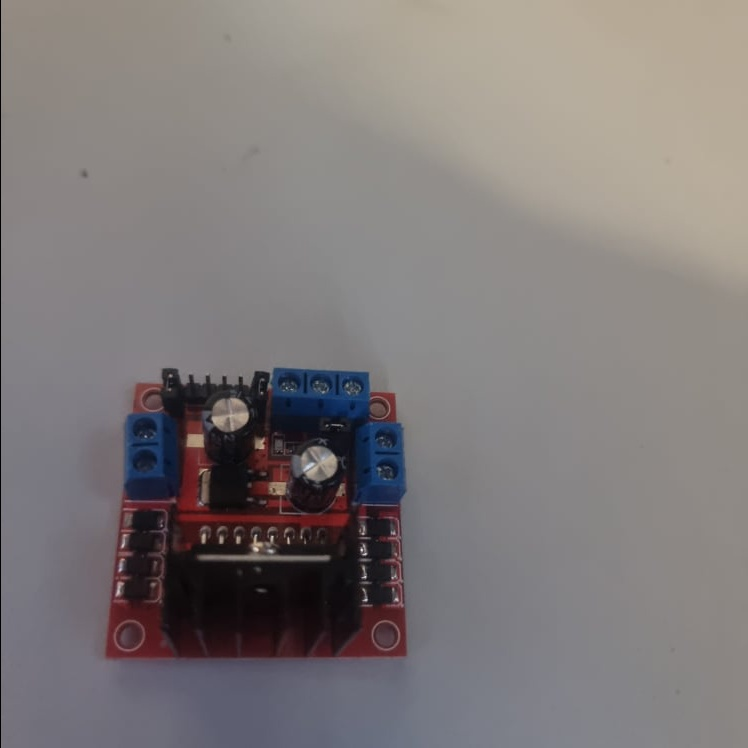MOTOR: (103, 361, 403, 663)
